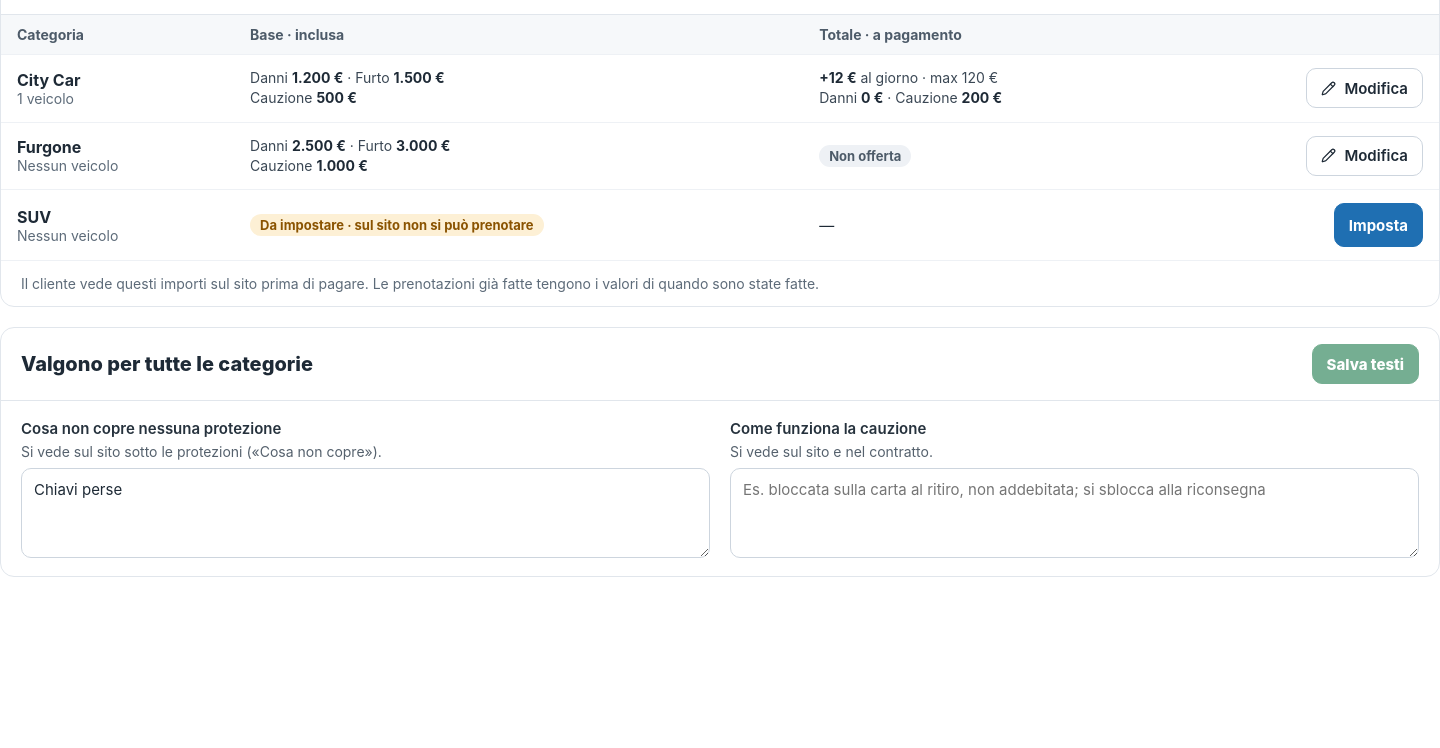
Test: la Totale non puo' far pagare piu' della Base
The width and height of the screenshot is (1440, 748).
Click the button "Modifica" in the row of "City Car": point(1365, 88) [1306,68,1423,108]
(page scrolled)
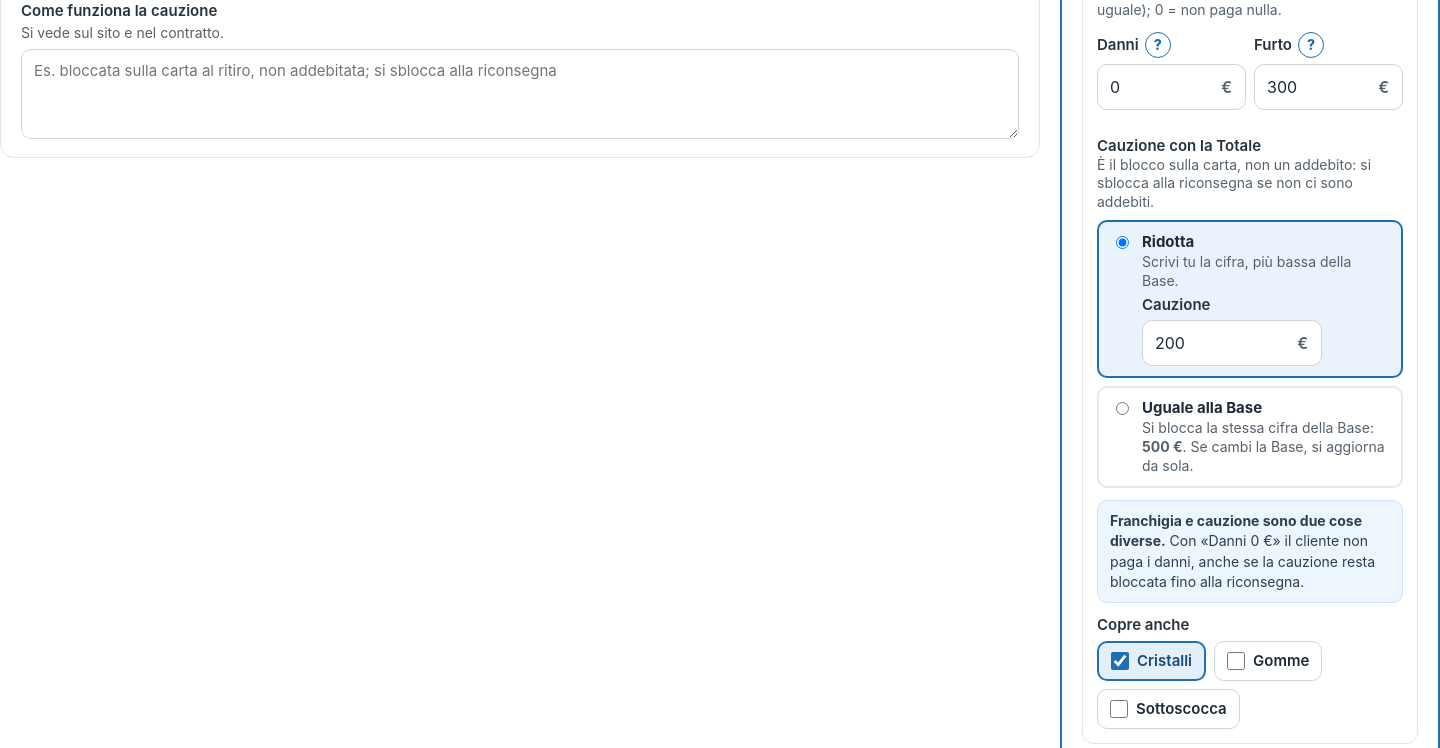
Replace the text in the field labelled "Cauzione" with "600": point(1232, 344) [1142,320,1322,366]
(page scrolled)
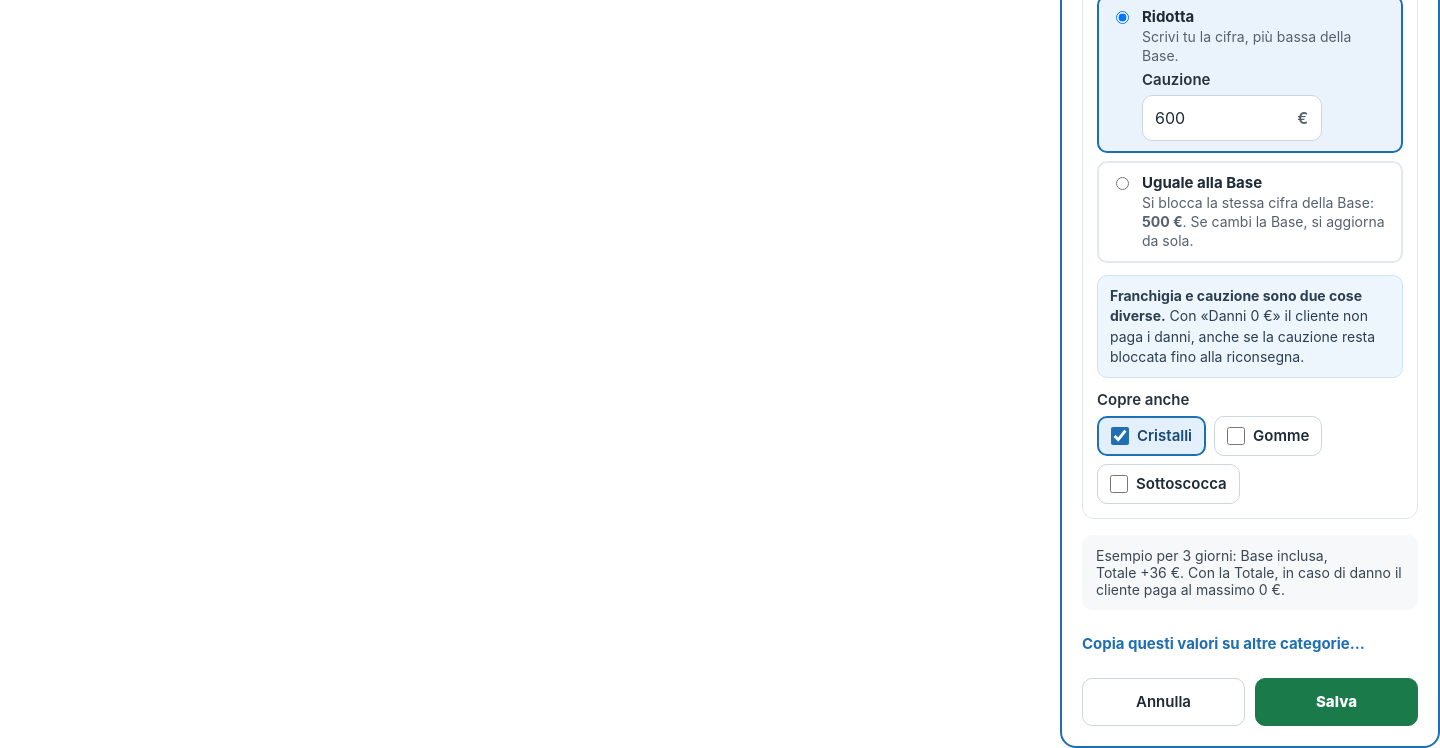
Click the button "Salva": point(1336, 702) [1255,678,1418,726]
(page scrolled)
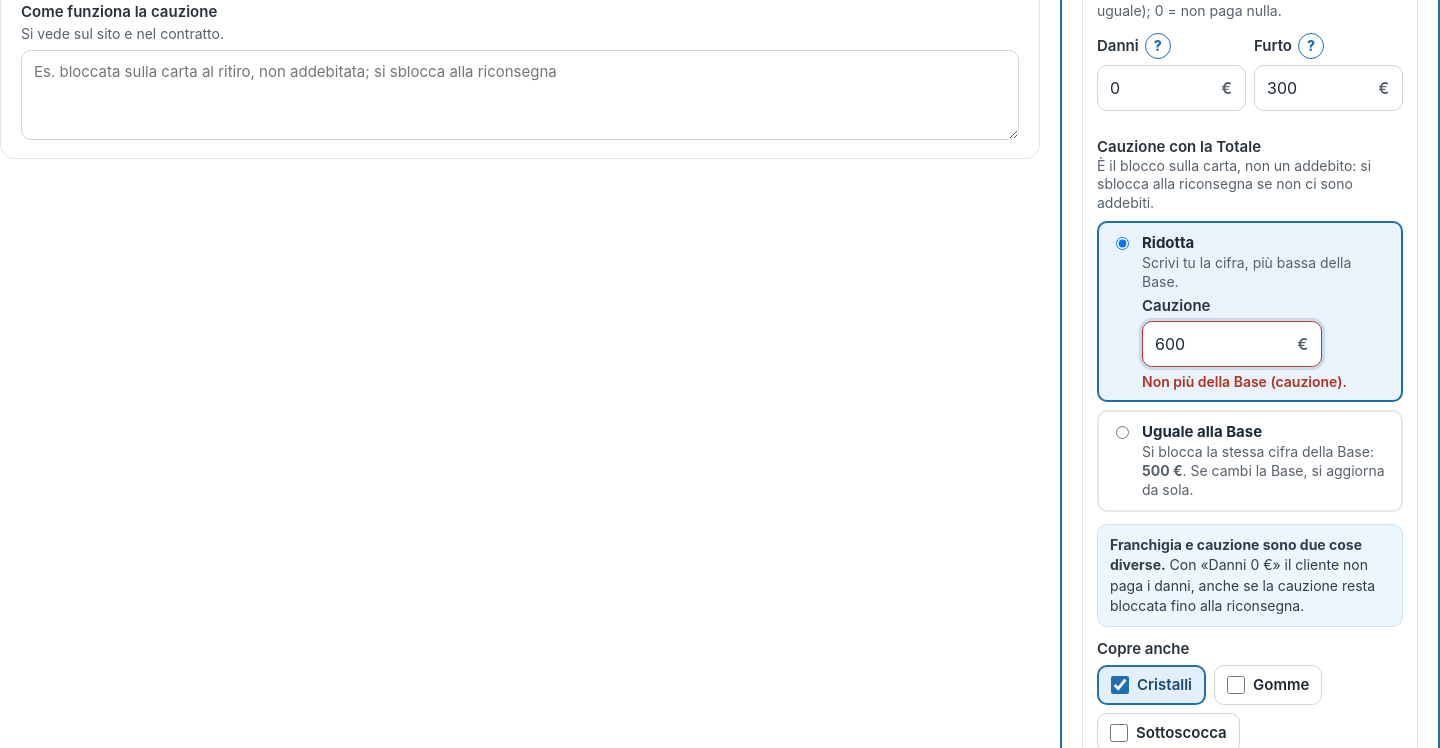
Result: the text "Non più della Base (cauzione)." is shown at [1142,374,1347,390]
